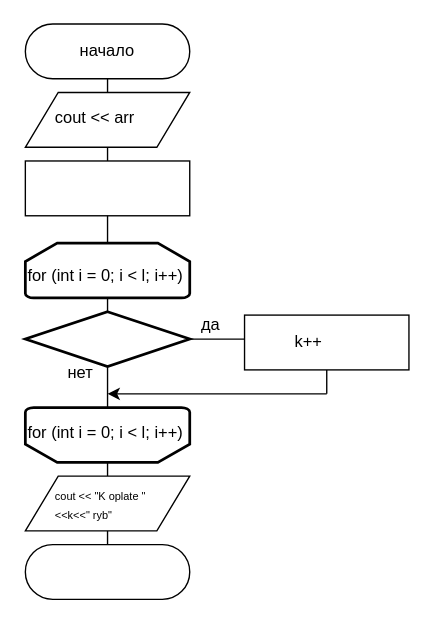
This 433x623 diagram has some shape labels left out. Here are the shapes that lost their labels. From the top down, the centre of each, then its label:
the point at 107,188: k = 1, l = strlen(arr);
the point at 106,338: arr[i] == ' '
the point at 107,571: конец
